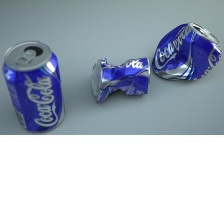can: (0, 38, 68, 138), (149, 15, 224, 90), (80, 54, 153, 105)
